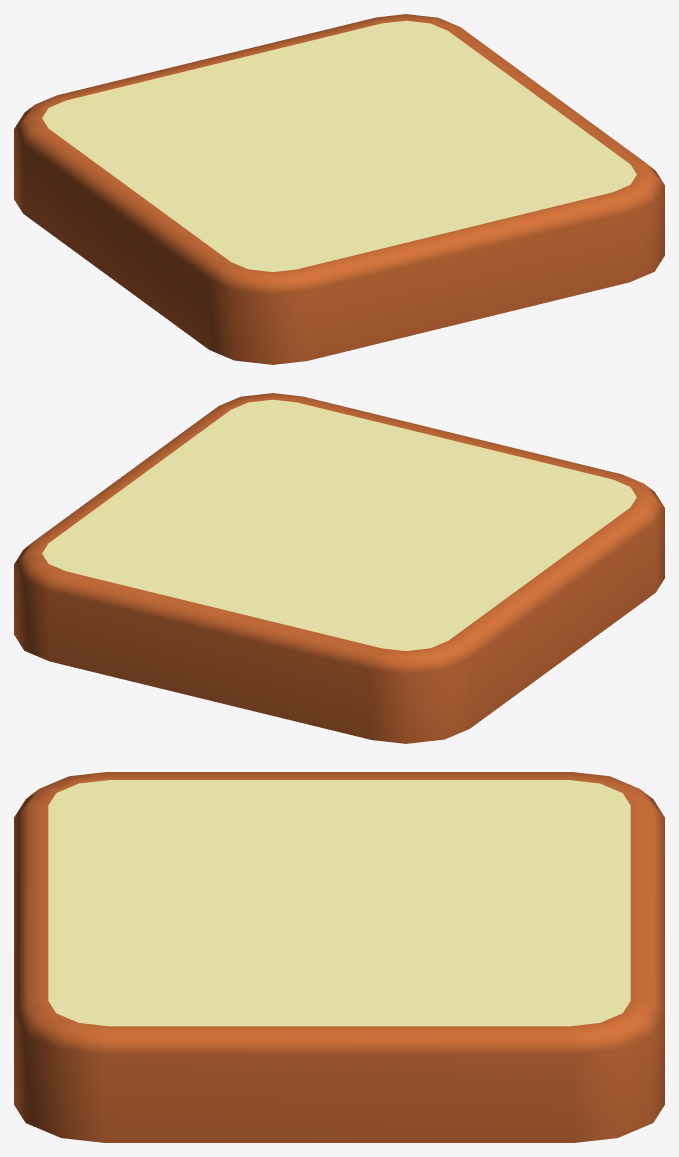
The model's file is Model_Dock.fbx.
The picture shows the model from 3 angles, top to bottom: view 1: azimuth 30°, elevation 25°; view 2: azimuth 150°, elevation 25°; view 3: azimuth 270°, elevation 25°; orthographic projection. The views are drawn at different scales.
Visible parts, largest first — view 1: Model_Dock; view 2: Model_Dock; view 3: Model_Dock.
Part boxes in pixels (bbox=[...]): Model_Dock: bbox=[14, 14, 664, 364]; Model_Dock: bbox=[14, 393, 664, 743]; Model_Dock: bbox=[14, 772, 664, 1142].
Size of the model in its own units: 196 by 34.02 by 196.
